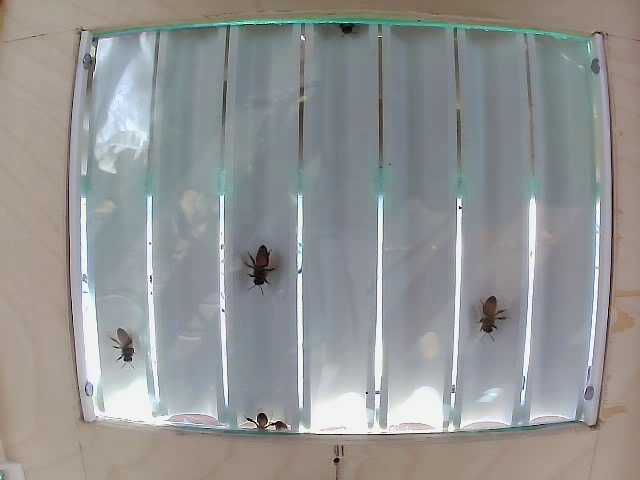bee: (242, 242, 277, 301), (472, 291, 504, 337), (111, 325, 141, 367)
